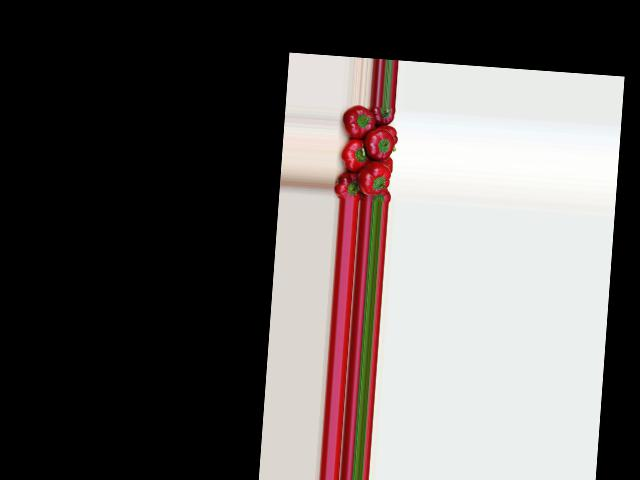bell_pepper: (380, 156, 395, 170)
